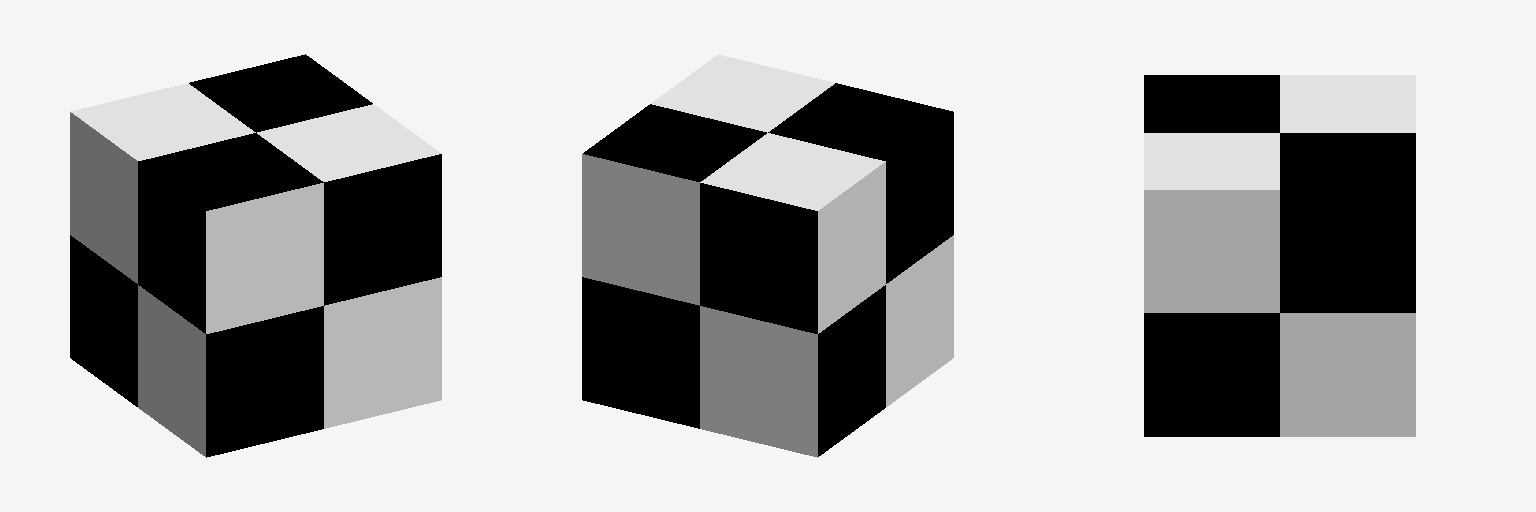
The picture shows the model from 3 angles: view 1: azimuth 30°, elevation 25°; view 2: azimuth 150°, elevation 25°; view 3: azimuth 270°, elevation 25°; orthographic projection.
Visible parts, largest first — view 1: Cube.001; view 2: Cube.001; view 3: Cube.001.
Boxes of the visible parts, box(x1,y1,x2,y2) form: Cube.001: box(70, 54, 441, 457); Cube.001: box(582, 54, 953, 457); Cube.001: box(1144, 75, 1415, 436).
Size of the model in its own units: 2 by 2 by 2.
Materials: 1 (1 with a texture image).